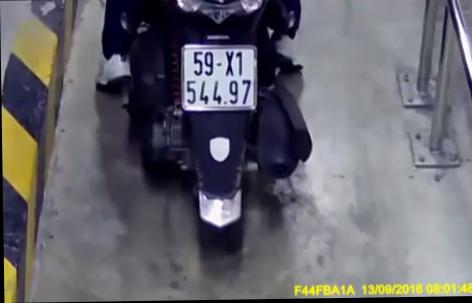LP: (182, 43, 257, 112)
